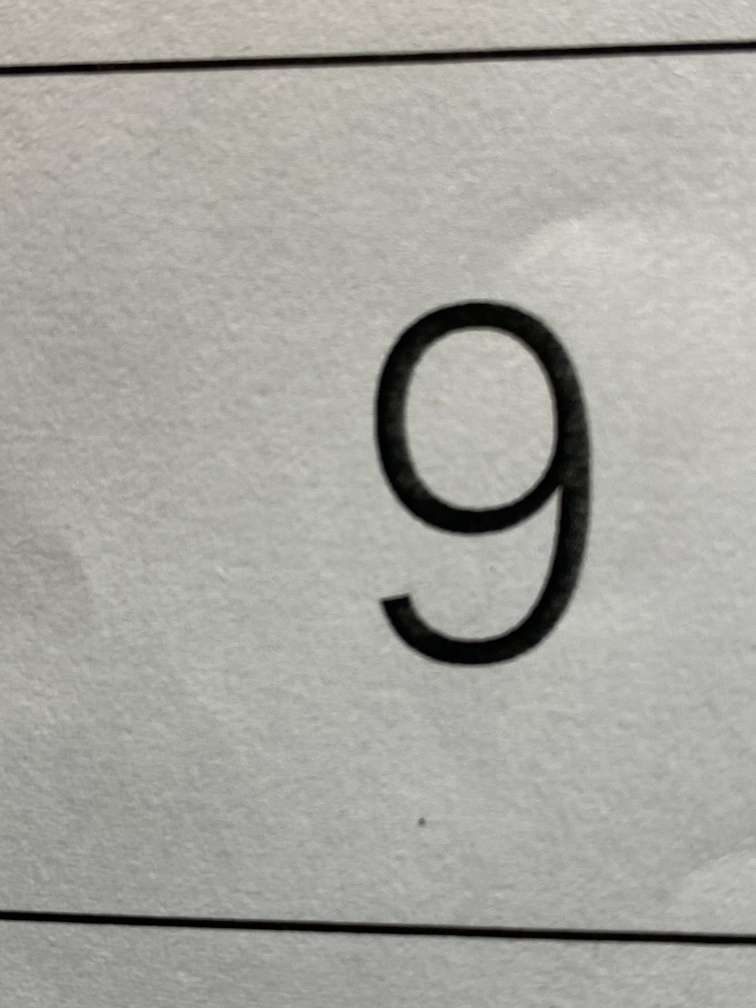nine: (270, 230, 652, 779)
